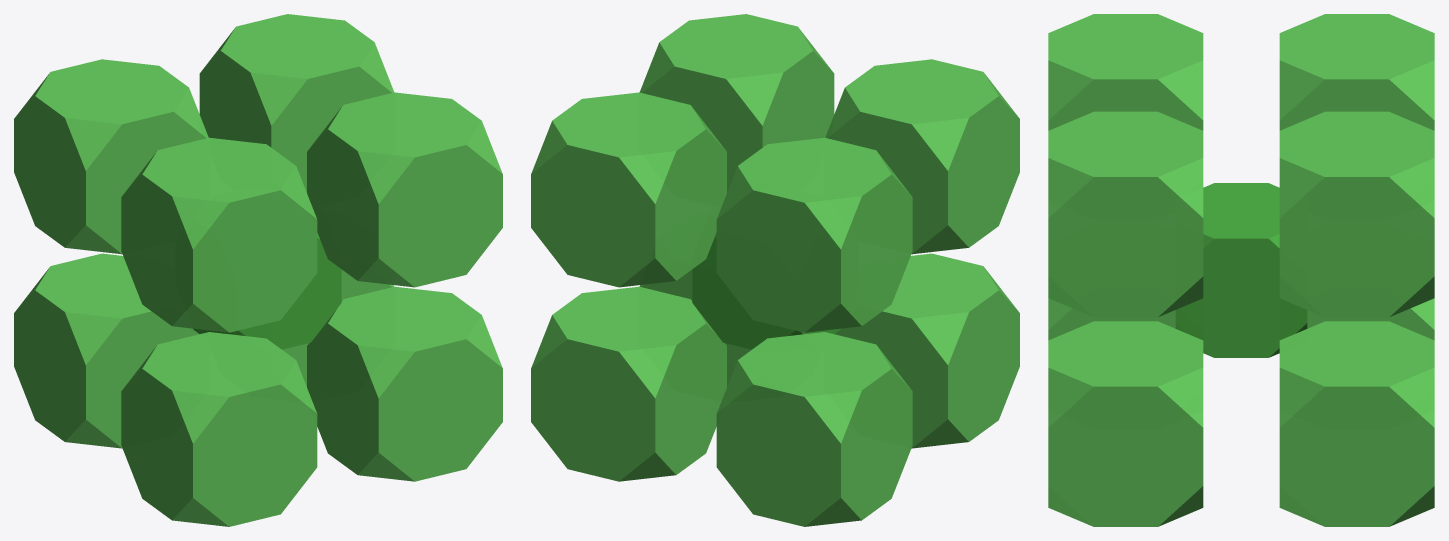
File: fractaltruncatedcube1.glb
3 renders of one model, left to right at view 1: azimuth 30°, elevation 25°; view 2: azimuth 150°, elevation 25°; view 3: azimuth 270°, elevation 25°, orthographic. The views are drawn at different scales.
Bounding box in the file's own units: 7.36 × 7.36 × 7.36.
